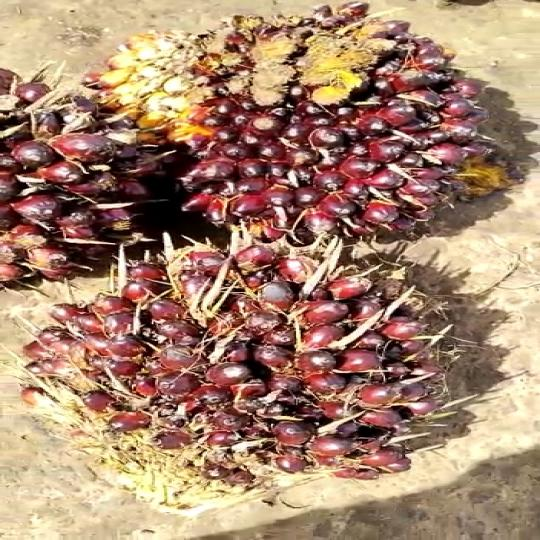kurang masak: (46, 242, 476, 512), (105, 0, 540, 258), (0, 51, 209, 301)
